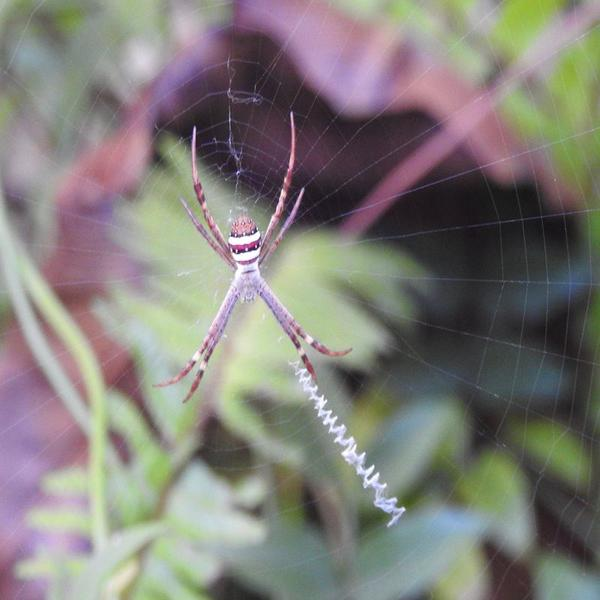St Andrew's Cross Spider: (154, 117, 349, 402)
